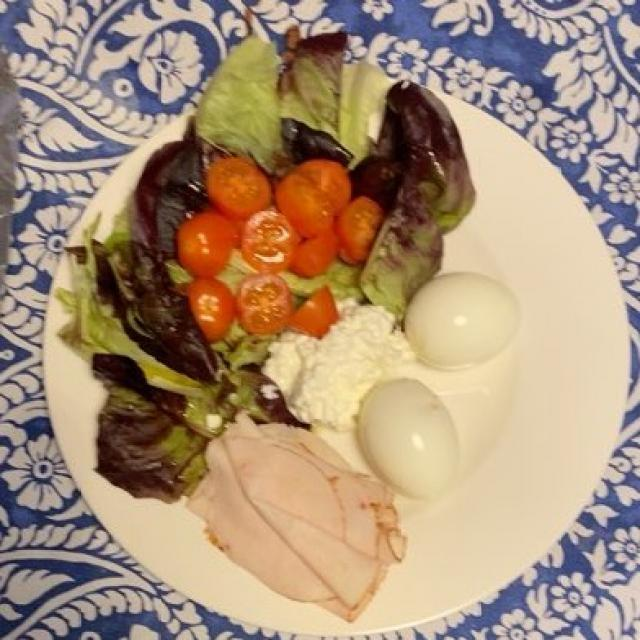cheese: (266, 304, 425, 429)
egg: (358, 264, 524, 501)
ham: (164, 408, 396, 612)
salad: (74, 57, 444, 527)
tomato: (182, 148, 374, 331)
